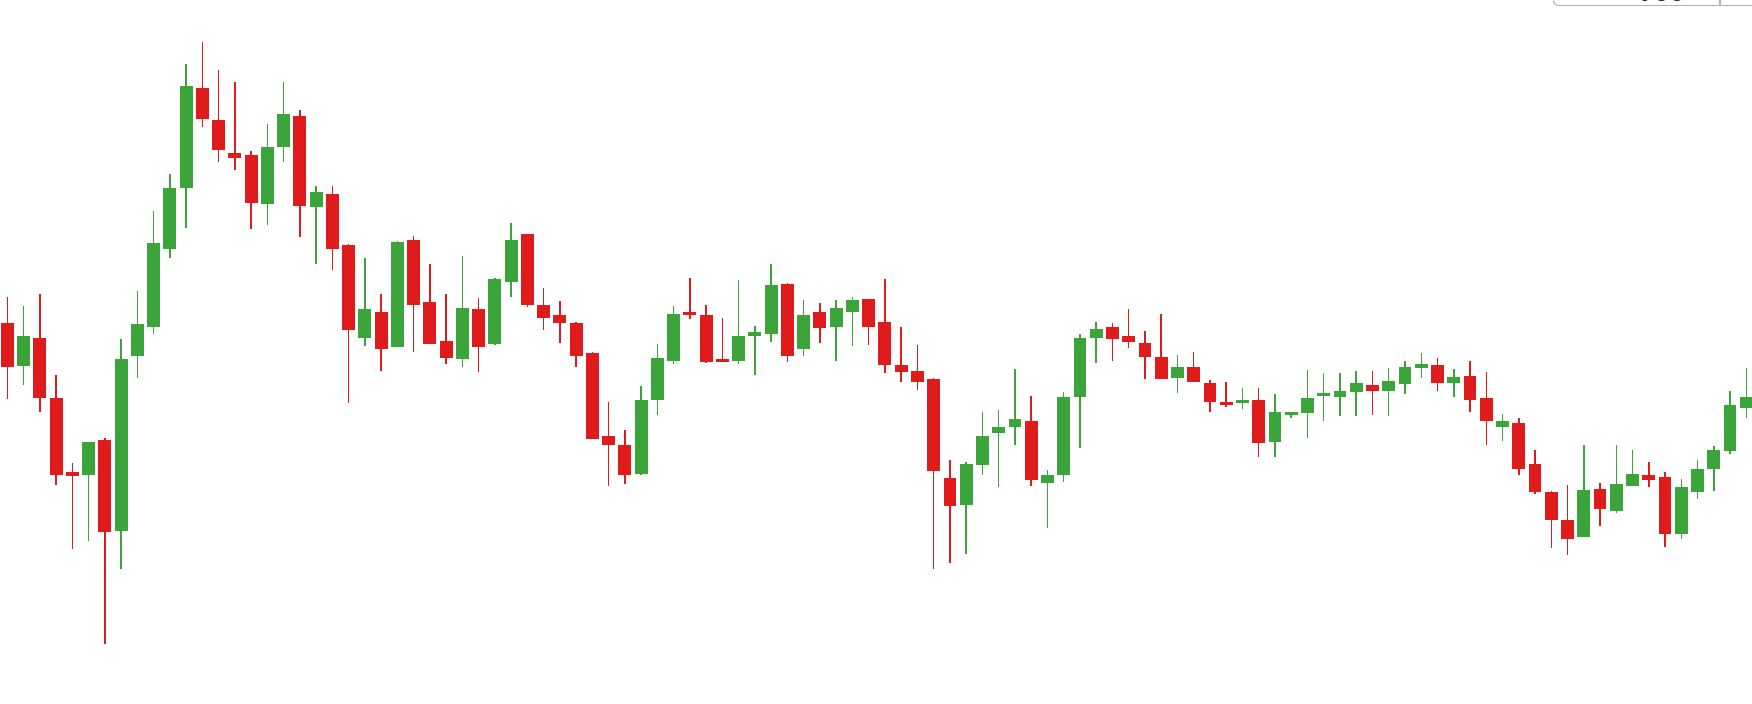buy: (602, 356, 975, 573)
sell: (388, 222, 536, 335)
